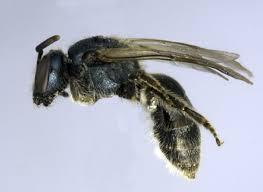Lasioglossum: (29, 25, 250, 185)
